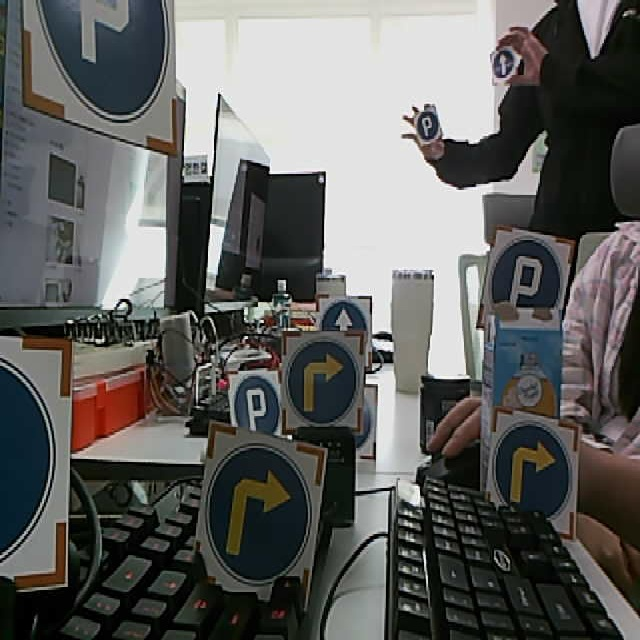parking: (22, 1, 179, 157), (478, 224, 573, 331), (225, 369, 282, 427), (412, 108, 443, 149)
right: (196, 422, 323, 612), (484, 406, 578, 537), (282, 330, 361, 429)
straight: (314, 294, 374, 331), (490, 45, 523, 86)
